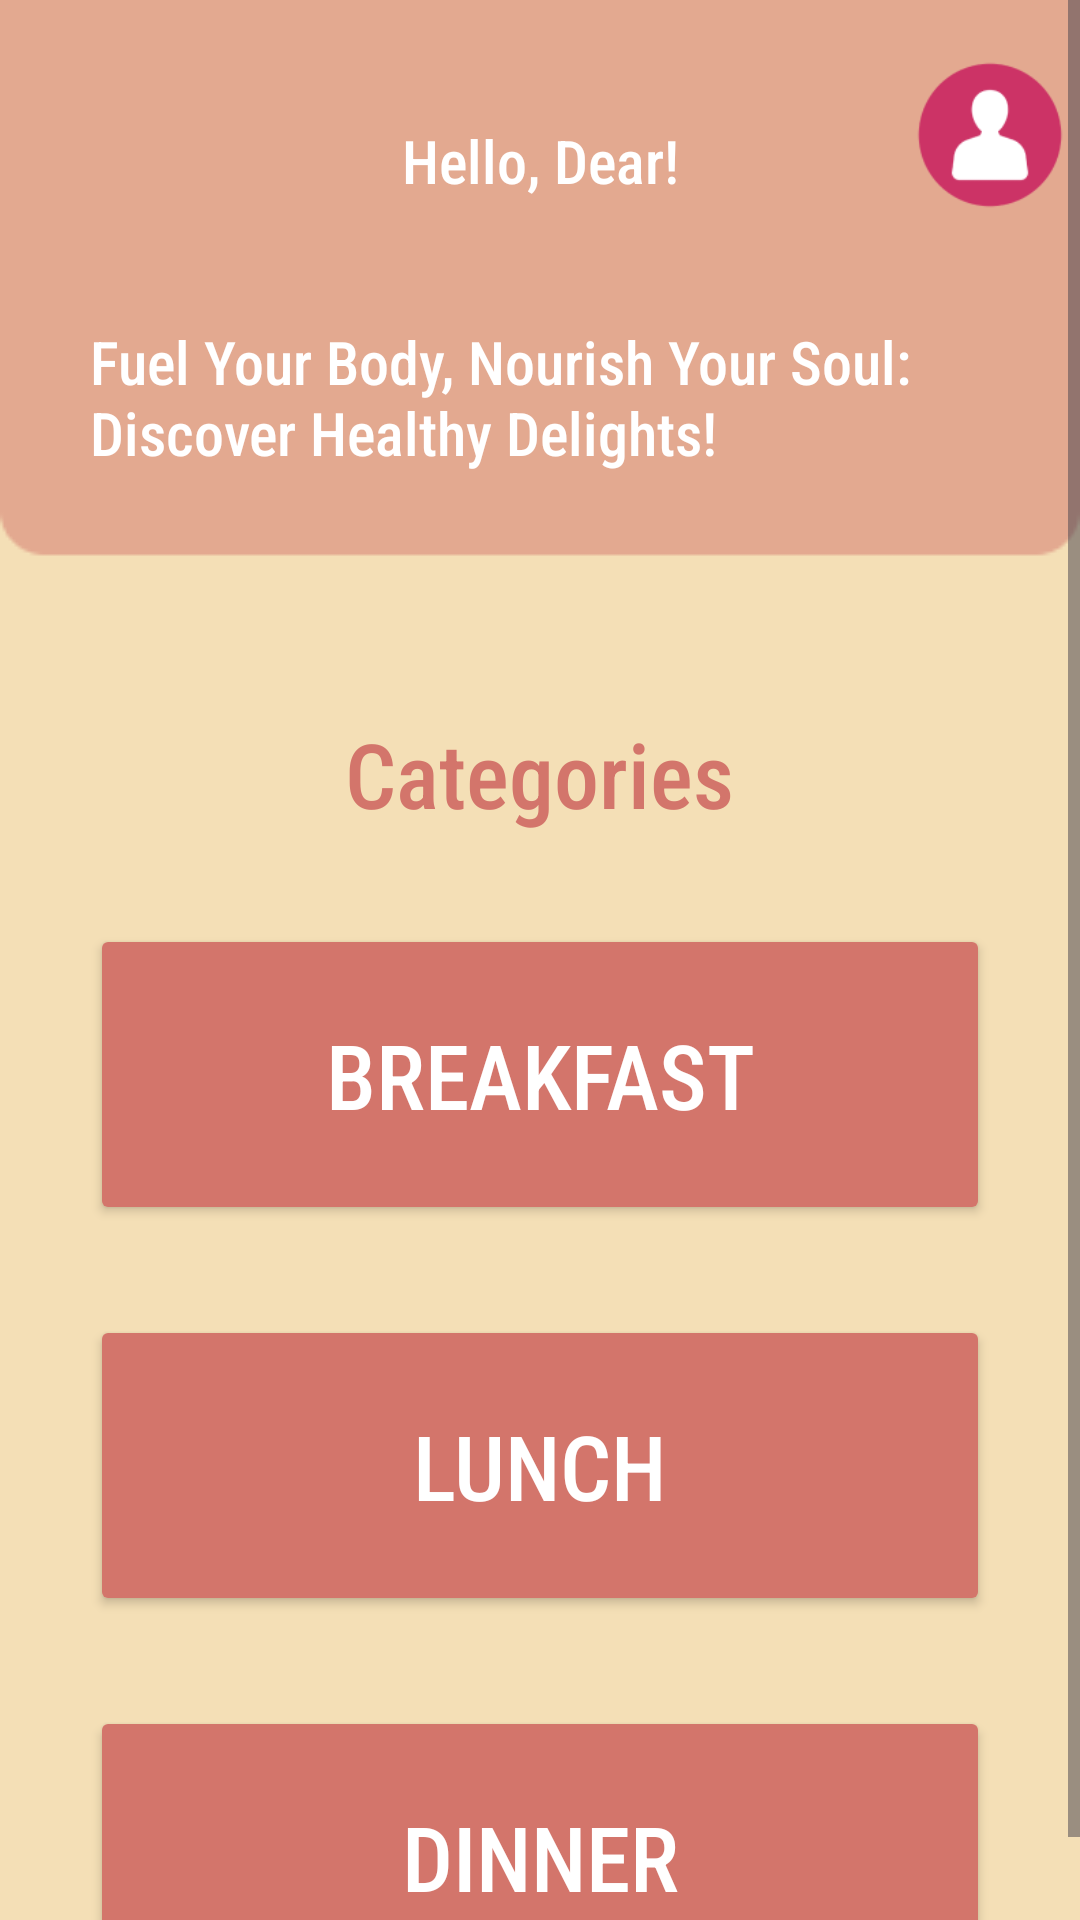

Icons on this 1080 × 1920 Android screen, each with its box as [x1,y1,x2,y2]:
user: [918,63,1062,207]
